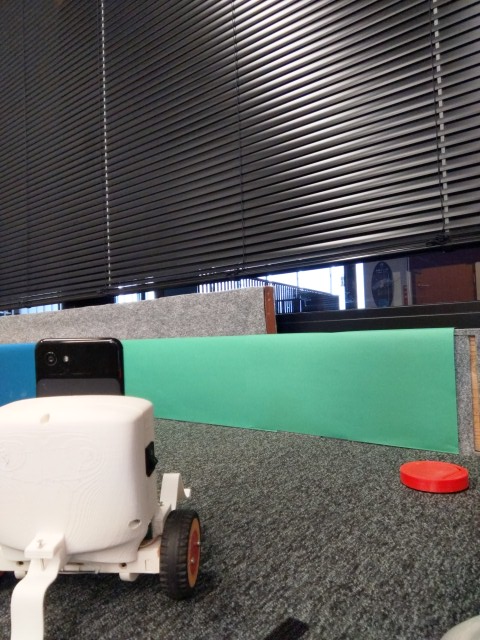br: (1, 319, 207, 640)
